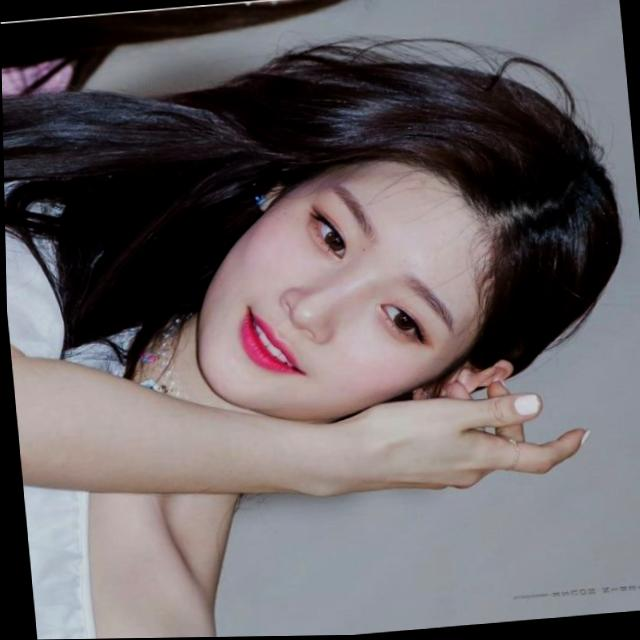face: (455, 0, 604, 90)
